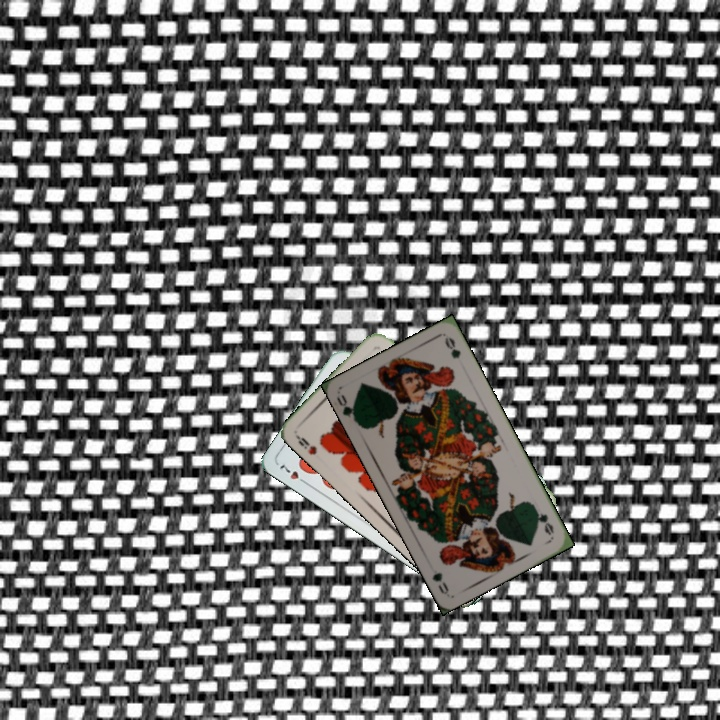GO: (333, 390, 362, 427), (529, 502, 557, 538)
H7: (276, 459, 311, 488)
H9: (292, 431, 320, 457)
